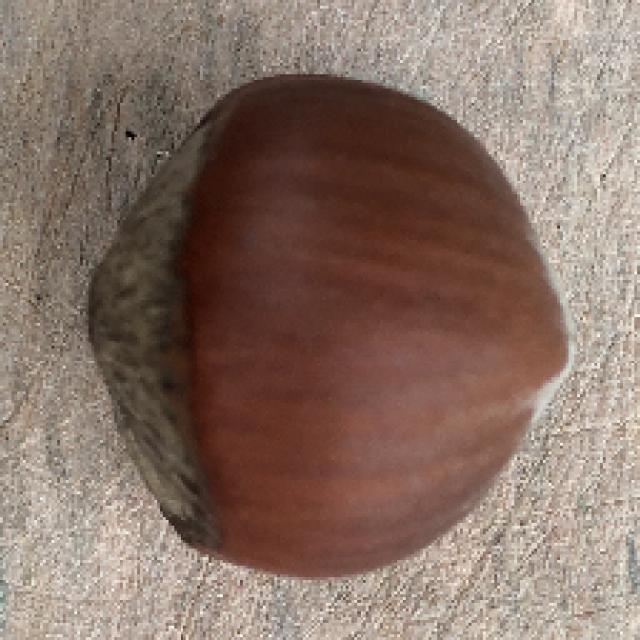DamagedHazelnut: (88, 77, 576, 576)
